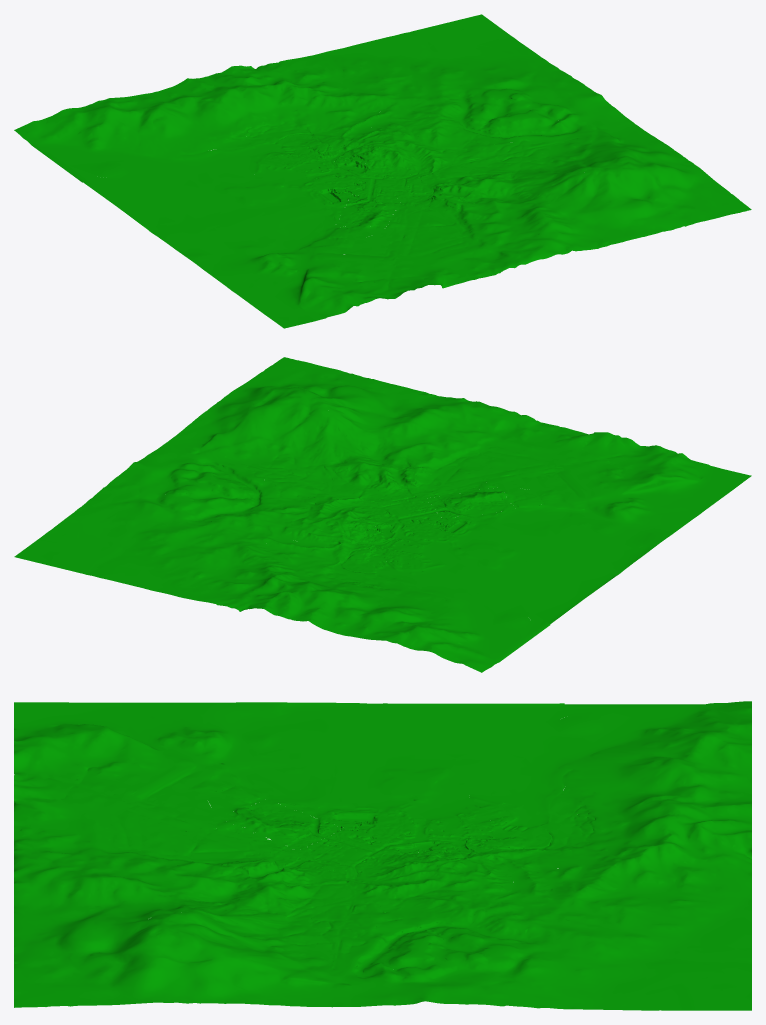
Rendered from 3dmap_terrain.gltf.
3 views of the same model, one above another, from view 1: azimuth 30°, elevation 25°; view 2: azimuth 150°, elevation 25°; view 3: azimuth 270°, elevation 25° (orthographic). The views are drawn at different scales.
Parts seen in each view (by area): view 1: 3dmap_terrain; view 2: 3dmap_terrain; view 3: 3dmap_terrain.
Boxes of the visible parts, left/top/right/bottom form: 3dmap_terrain: left=14, top=14, right=751, bottom=328; 3dmap_terrain: left=14, top=357, right=751, bottom=672; 3dmap_terrain: left=14, top=701, right=751, bottom=1010.
Bounding box in the file's own units: 16001 × 977 × 16001.
